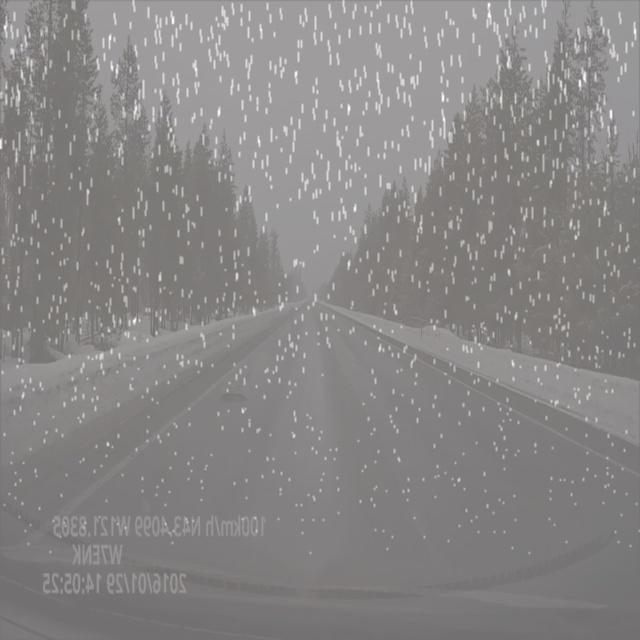Pothole: (218, 385, 259, 413)
